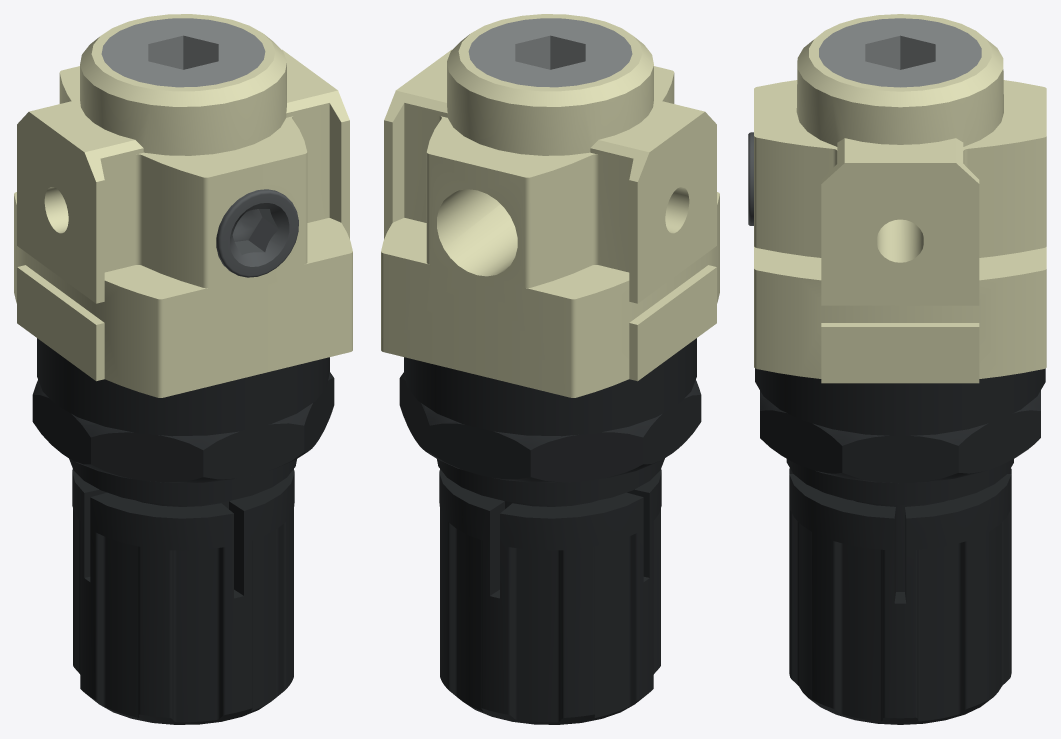
File: Pressure Regulator.glb
3 views of the same model, side by side, from view 1: azimuth 30°, elevation 25°; view 2: azimuth 150°, elevation 25°; view 3: azimuth 270°, elevation 25° (orthographic).
Visible parts, largest first — view 1: 276-8748-000 Simplified Model; view 2: 276-8748-000 Simplified Model; view 3: 276-8748-000 Simplified Model.
Boxes of the visible parts, x1,y1,x2,y2 form: 276-8748-000 Simplified Model: (14, 14, 352, 724); 276-8748-000 Simplified Model: (381, 14, 719, 724); 276-8748-000 Simplified Model: (748, 14, 1046, 724).
Bounding box in the file's own units: 0.025 × 0.0595 × 0.0255.
